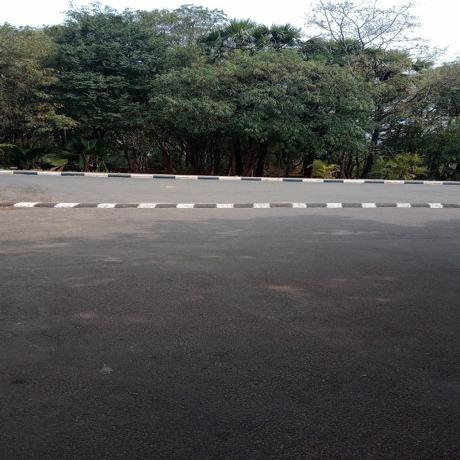Speed Bump: (1, 201, 459, 210)
